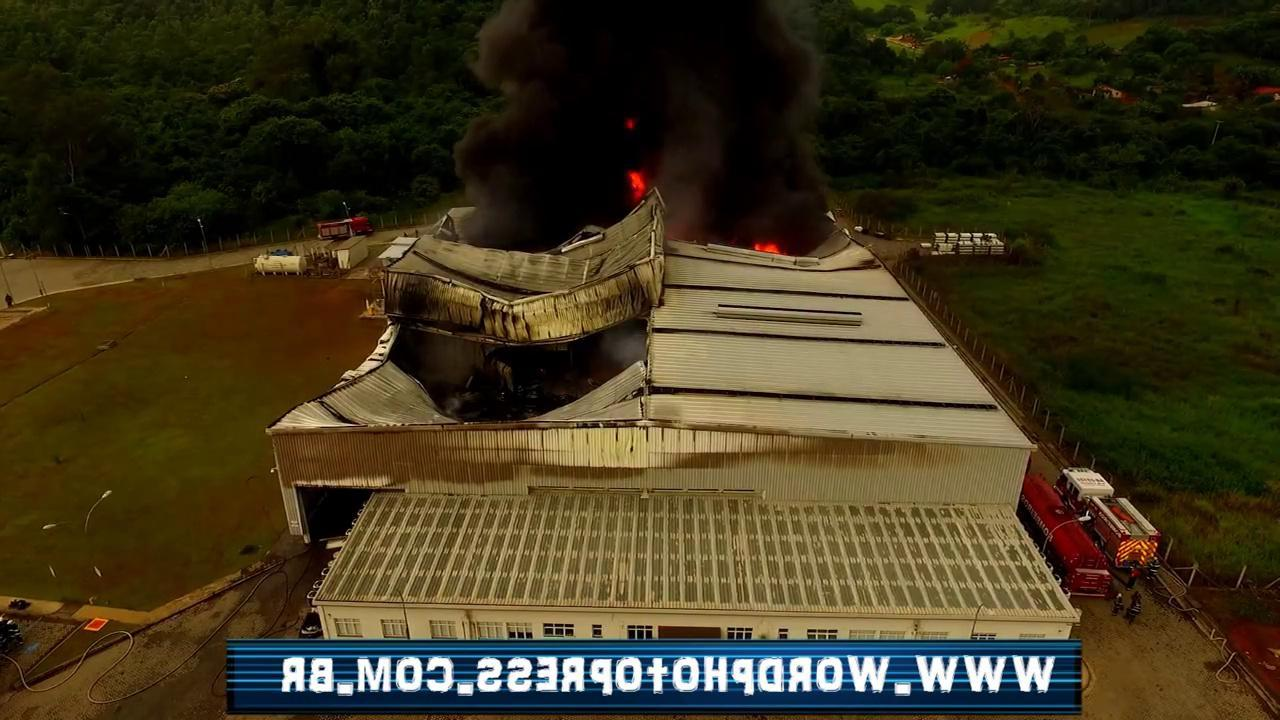Fire: (628, 166, 647, 204), (754, 243, 784, 255)
